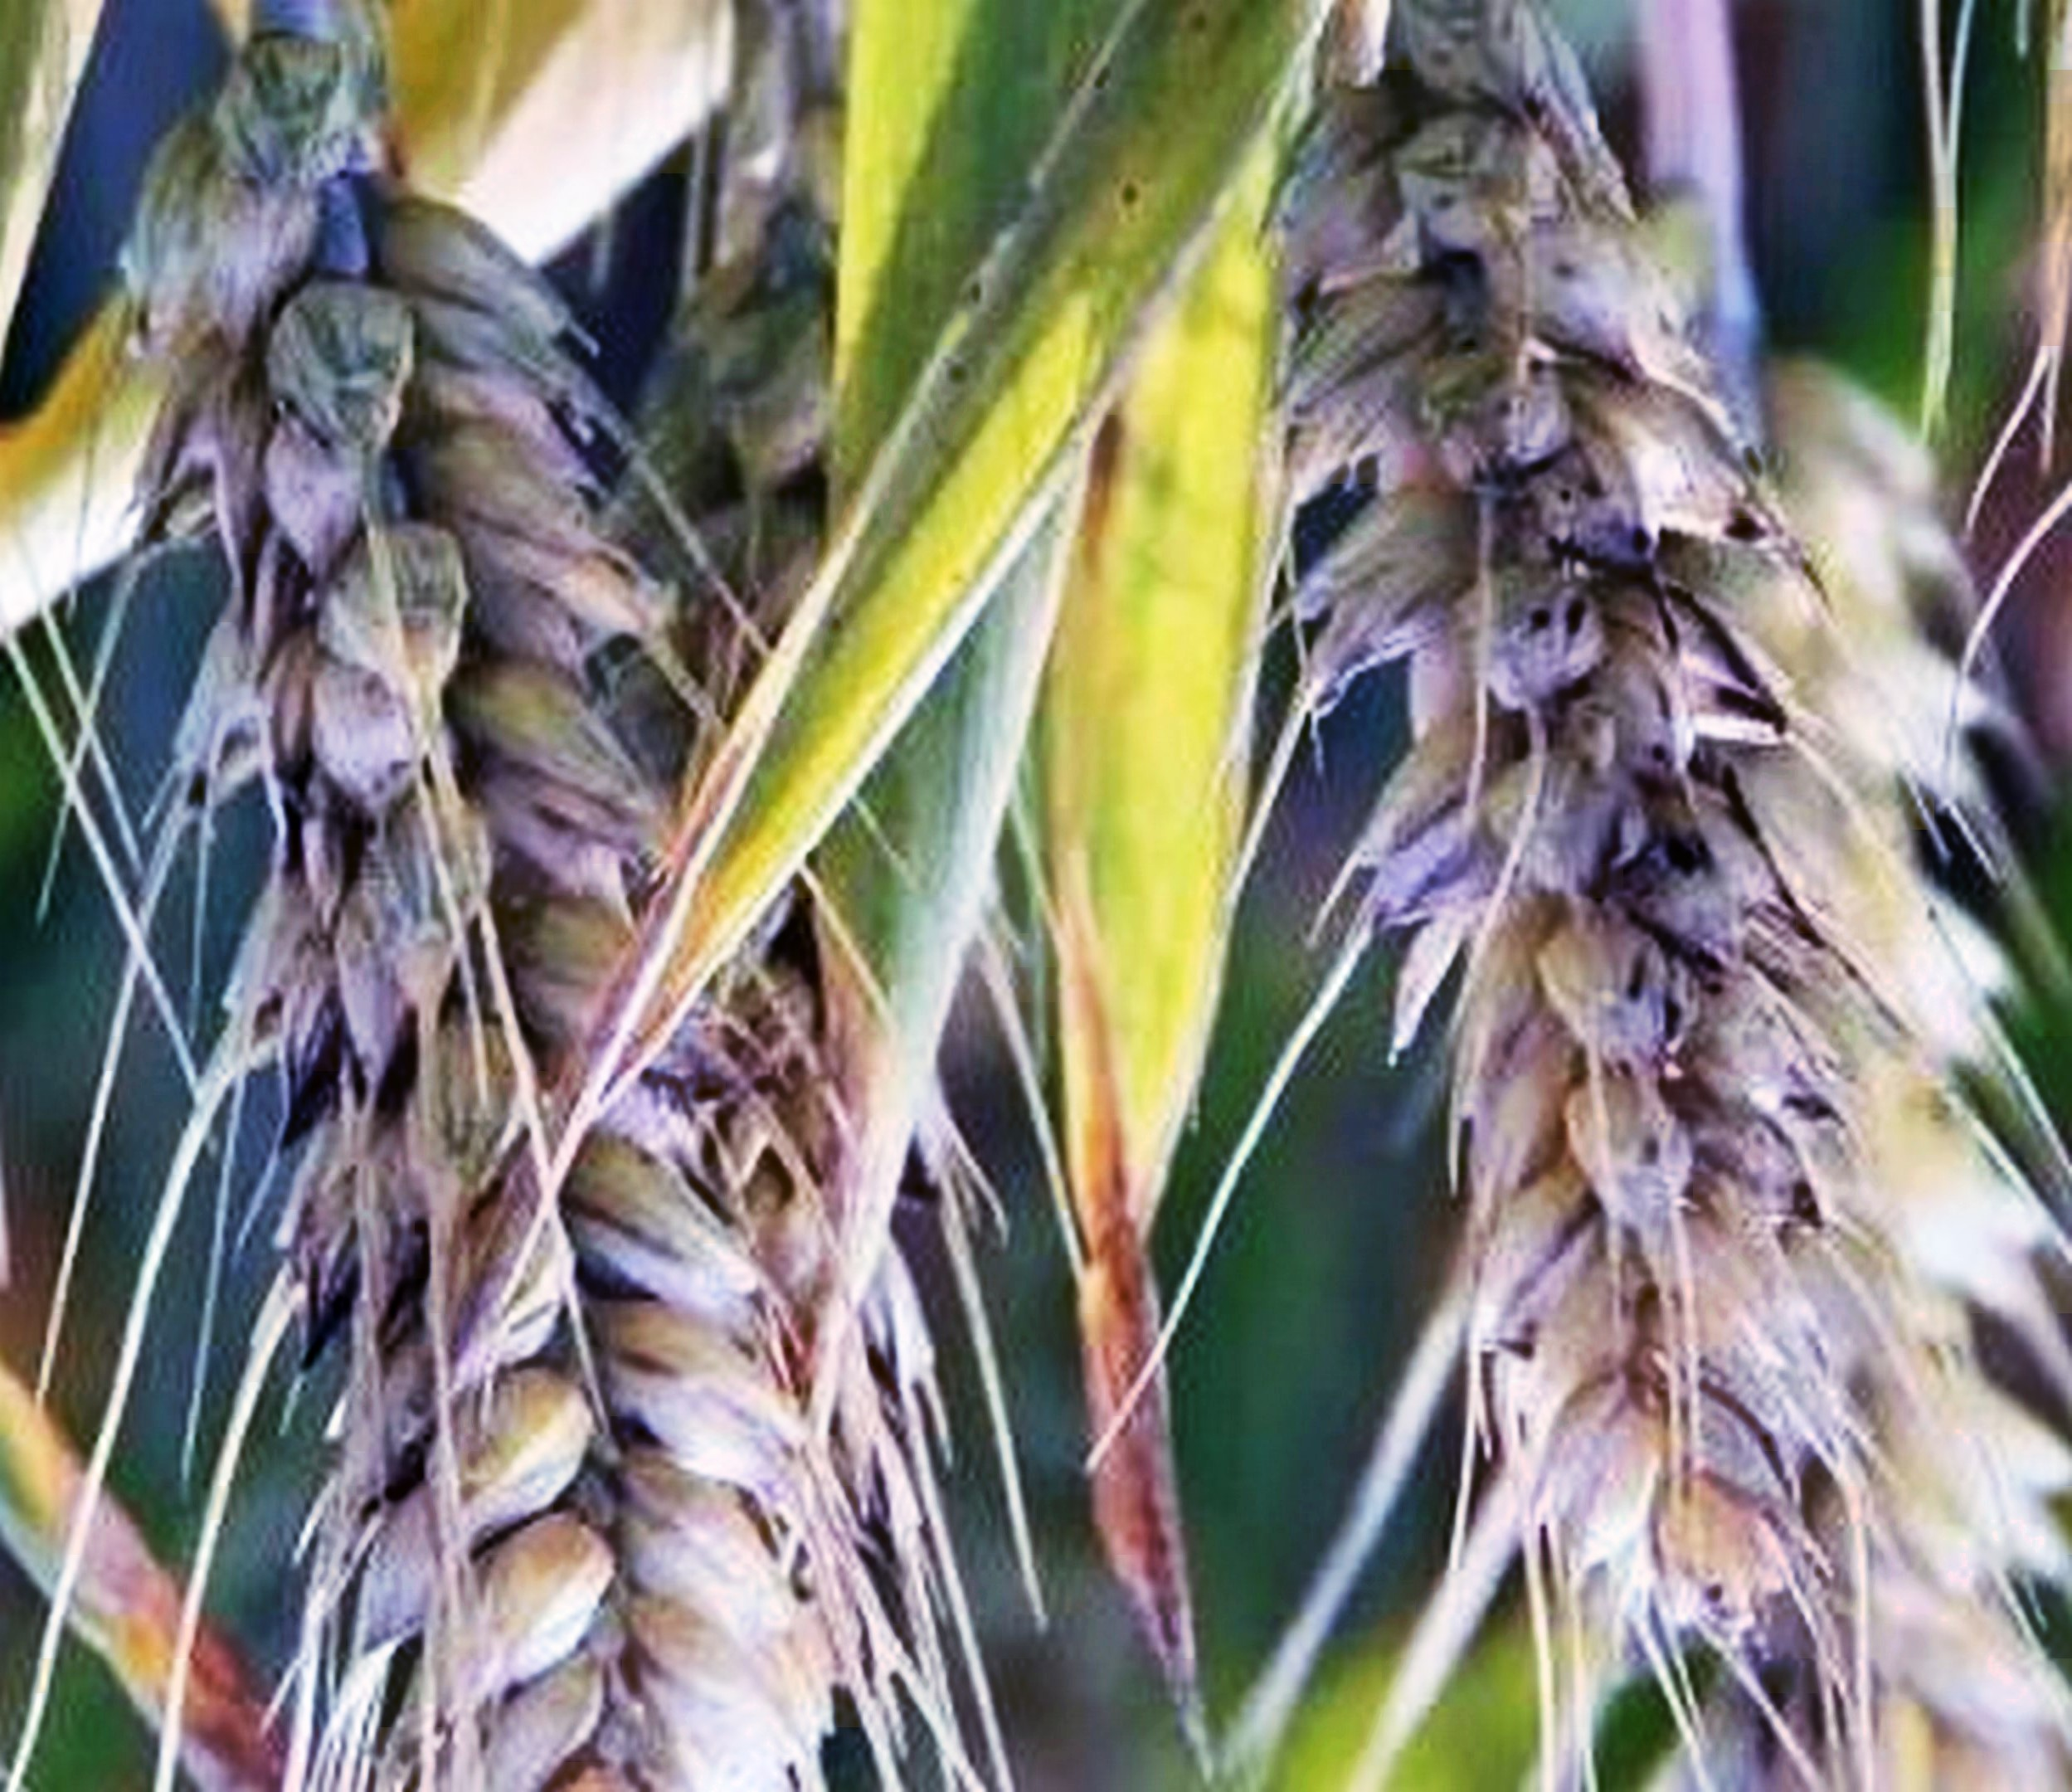Wheat scab: (143, 118, 902, 1785), (1272, 70, 1961, 1625)
